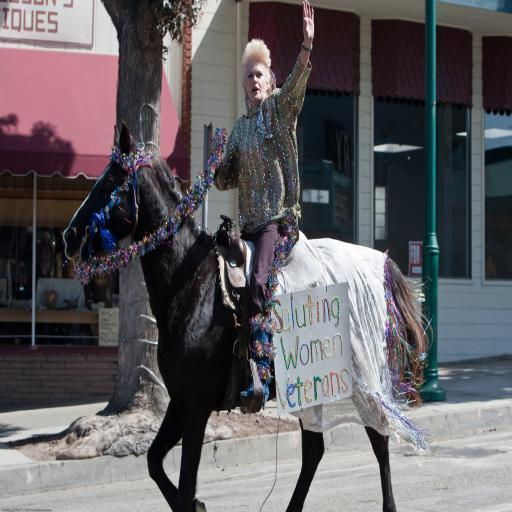horse: (62, 120, 436, 512)
